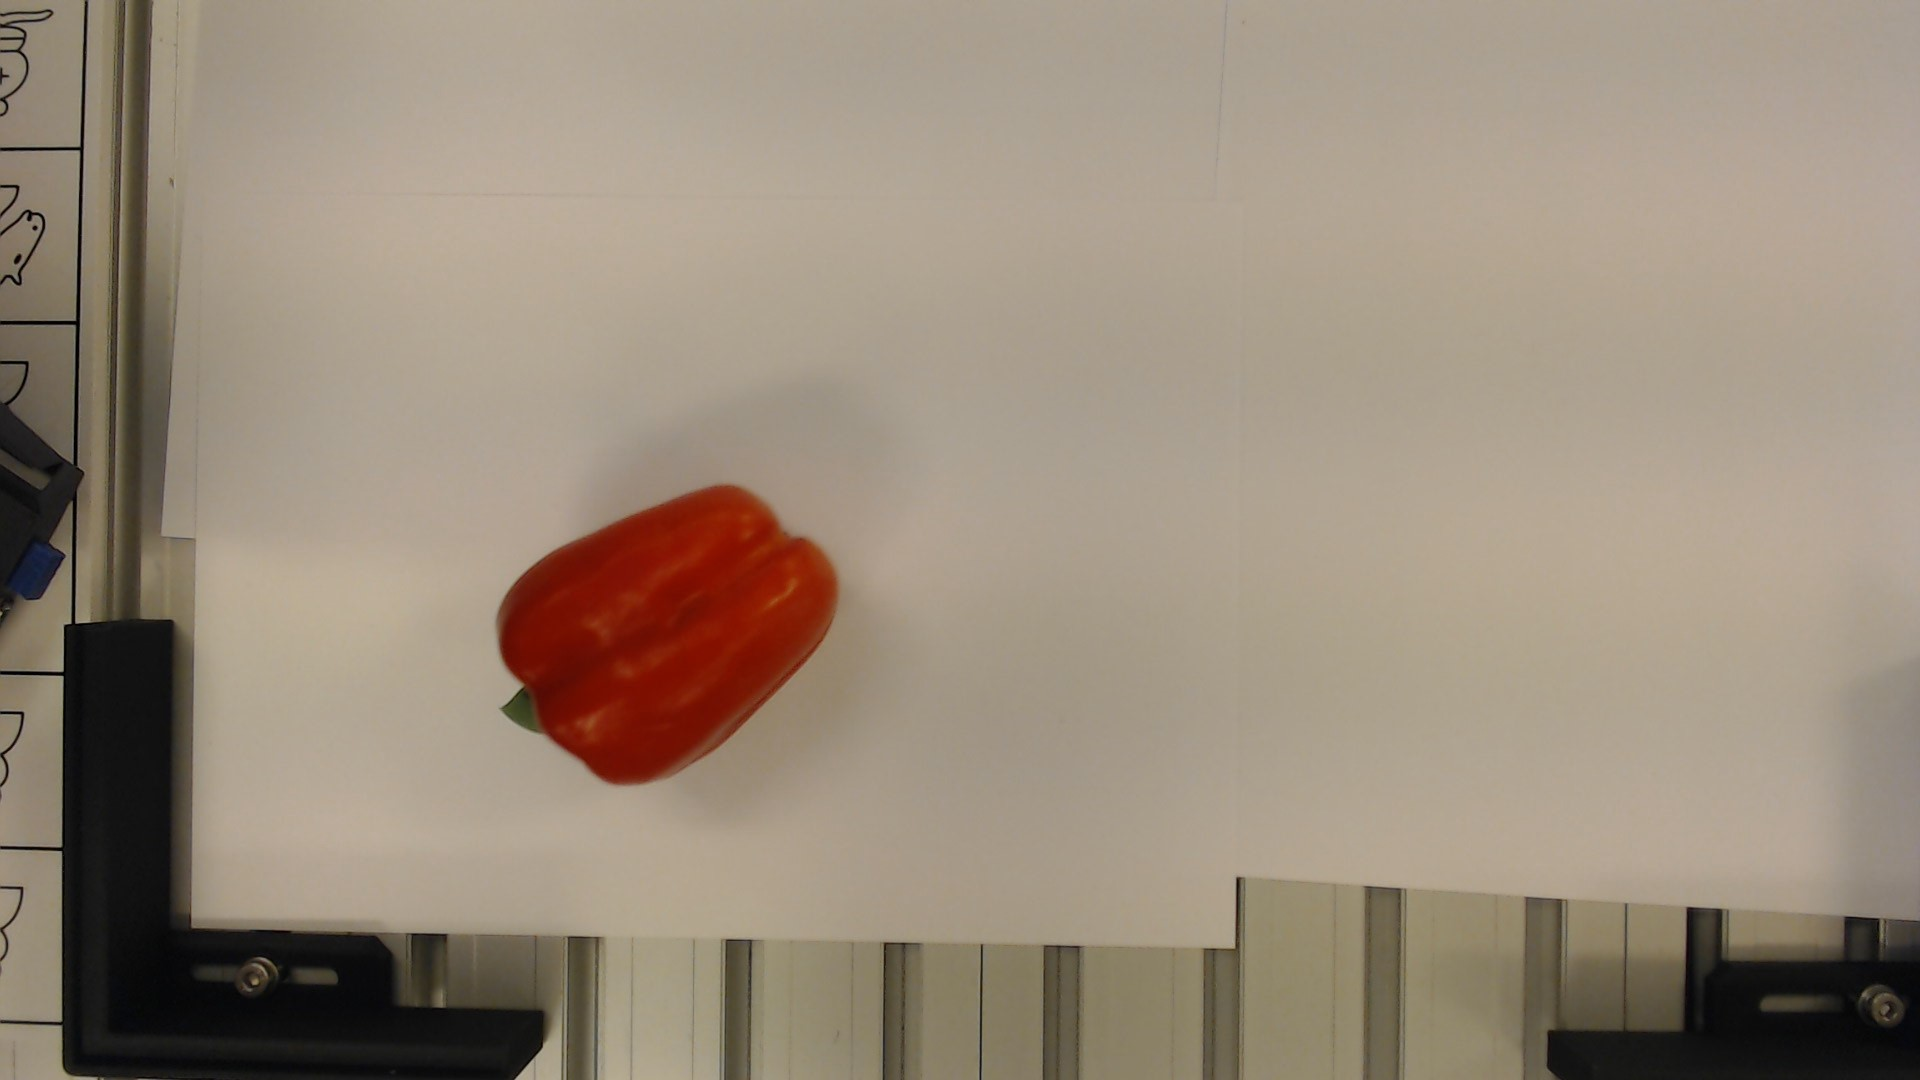Red Bell Pepper: (489, 477, 841, 787)
